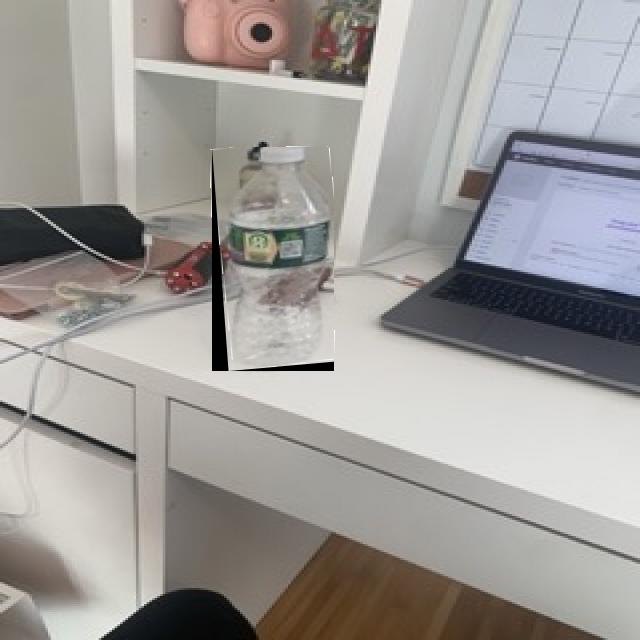water_bottle: (212, 147, 334, 371)
